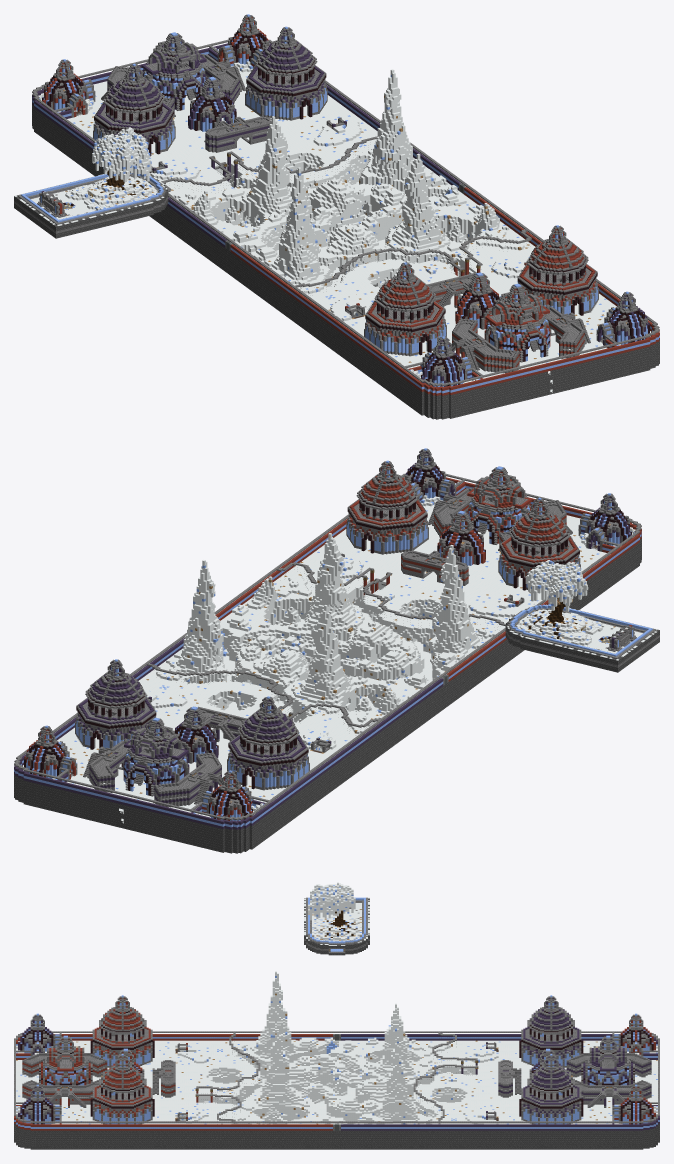
File: minecraft.obj
3 renders of one model, top to bottom at view 1: azimuth 30°, elevation 25°; view 2: azimuth 150°, elevation 25°; view 3: azimuth 270°, elevation 25°, orthographic. The views are drawn at different scales.
Size of the model in its own units: 189 by 70.12 by 312.
